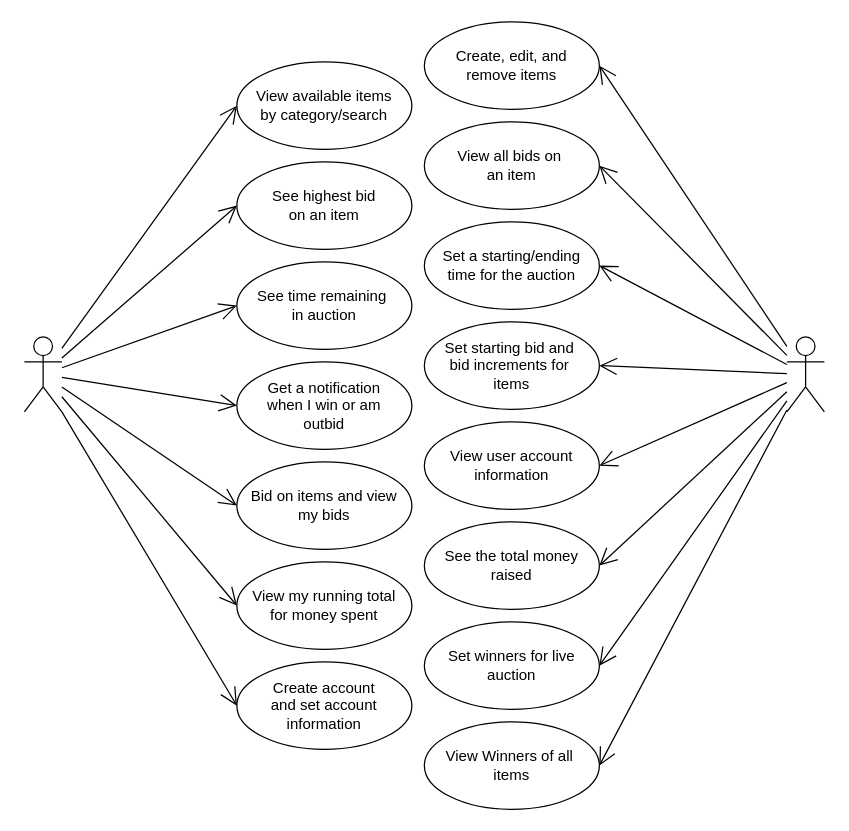
The diagram is 849 pixels wide and 831 high, and some of its shapes have lost their labels. The centre of each missing label's shape, as x and y in pixels:
"Admin" goes at (x=805, y=374).
"Bidder" goes at (x=42, y=374).
